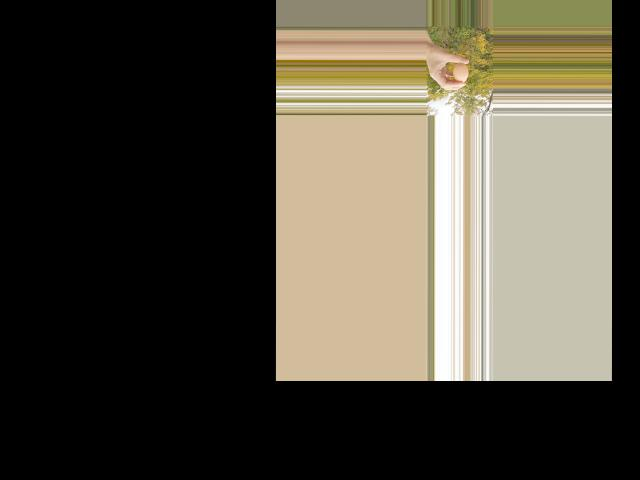egg: (453, 62, 468, 83)
